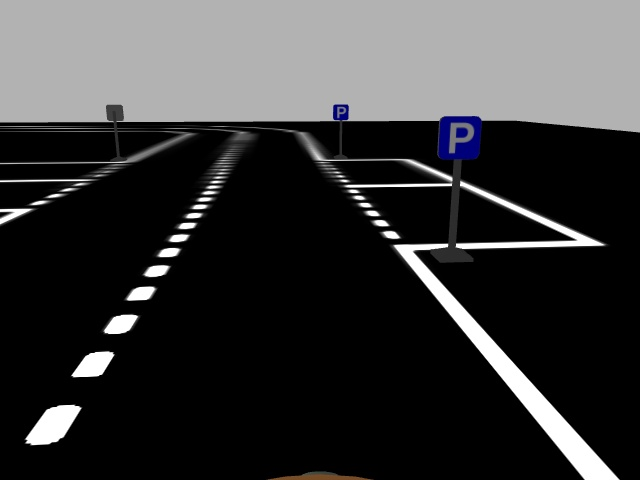parking: (438, 114, 483, 160), (332, 103, 349, 121)
